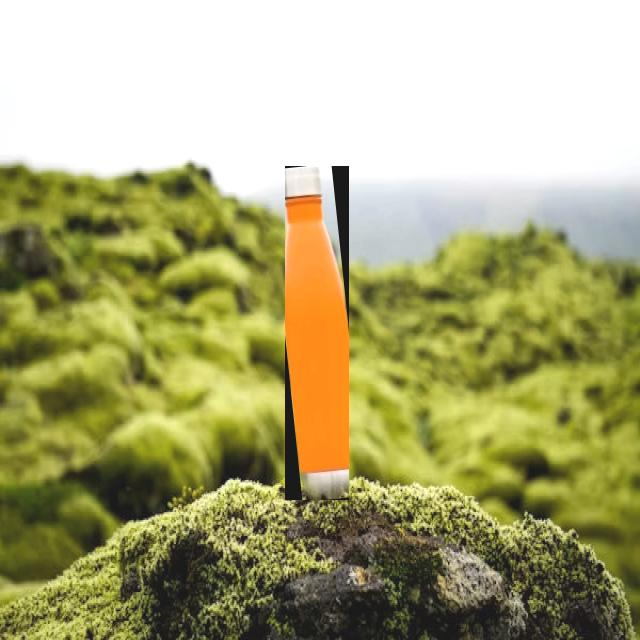Bottle: (284, 167, 347, 499)
